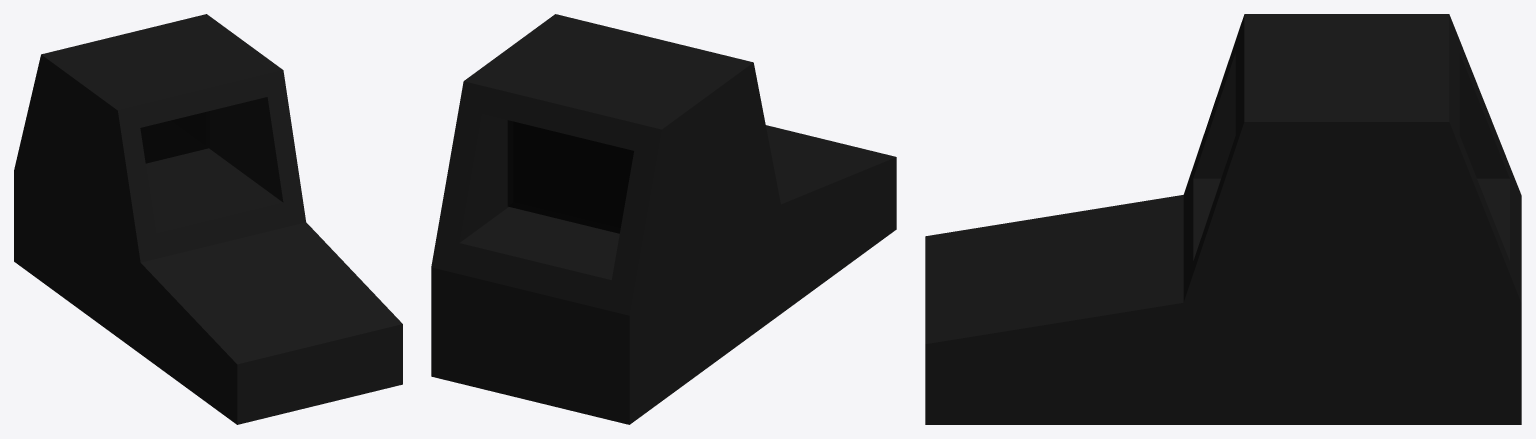
The model's file is прицел.glb.
3 renders of one model, left to right at view 1: azimuth 30°, elevation 25°; view 2: azimuth 150°, elevation 25°; view 3: azimuth 270°, elevation 25°, orthographic. The views are drawn at different scales.
Visible parts, largest first — view 1: SMG2_Sight_SMG2_Metal2_0, SMG2_TransparentGlass_SMG2_Glass_0; view 2: SMG2_Sight_SMG2_Metal2_0, SMG2_TransparentGlass_SMG2_Glass_0; view 3: SMG2_Sight_SMG2_Metal2_0.
Boxes of the visible parts, box(x1,y1,x2,y2) form: SMG2_Sight_SMG2_Metal2_0: box(14, 14, 402, 424); SMG2_TransparentGlass_SMG2_Glass_0: box(140, 111, 209, 163); SMG2_Sight_SMG2_Metal2_0: box(431, 14, 896, 424); SMG2_TransparentGlass_SMG2_Glass_0: box(507, 120, 633, 233); SMG2_Sight_SMG2_Metal2_0: box(925, 14, 1521, 424).
Size of the model in its own units: 0.0193 by 0.0253 by 0.0451.
2 materials, 2 textured.
